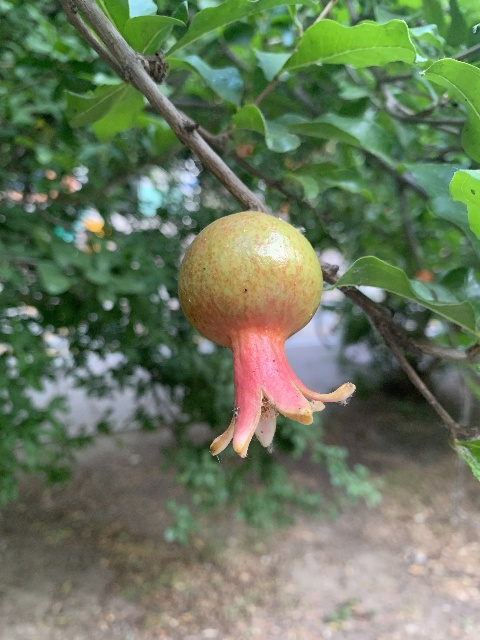mid-growth: (178, 211, 355, 459)
